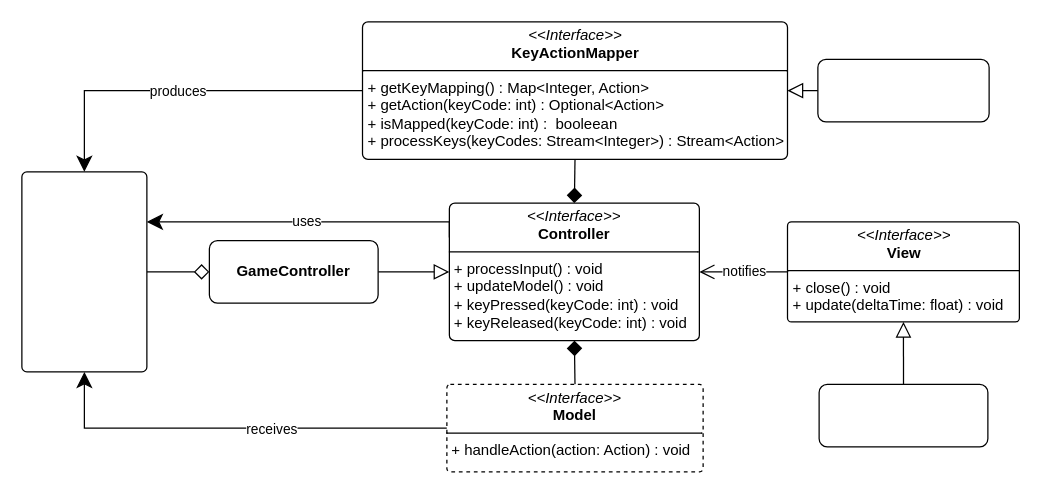
This 1041x494 diagram has some shape labels left out. The shapes that lost their labels are listed below. From the top down, each one's box as (x1, y1, x2, y2) in pixels, then its label:
(817, 58, 989, 122): StandardKeyMapper
(21, 171, 147, 372): <<Enumeration>> Action ENTER ESCAPE UP DOWN LEFT RIGHT SPACE
(818, 383, 988, 447): GameView
